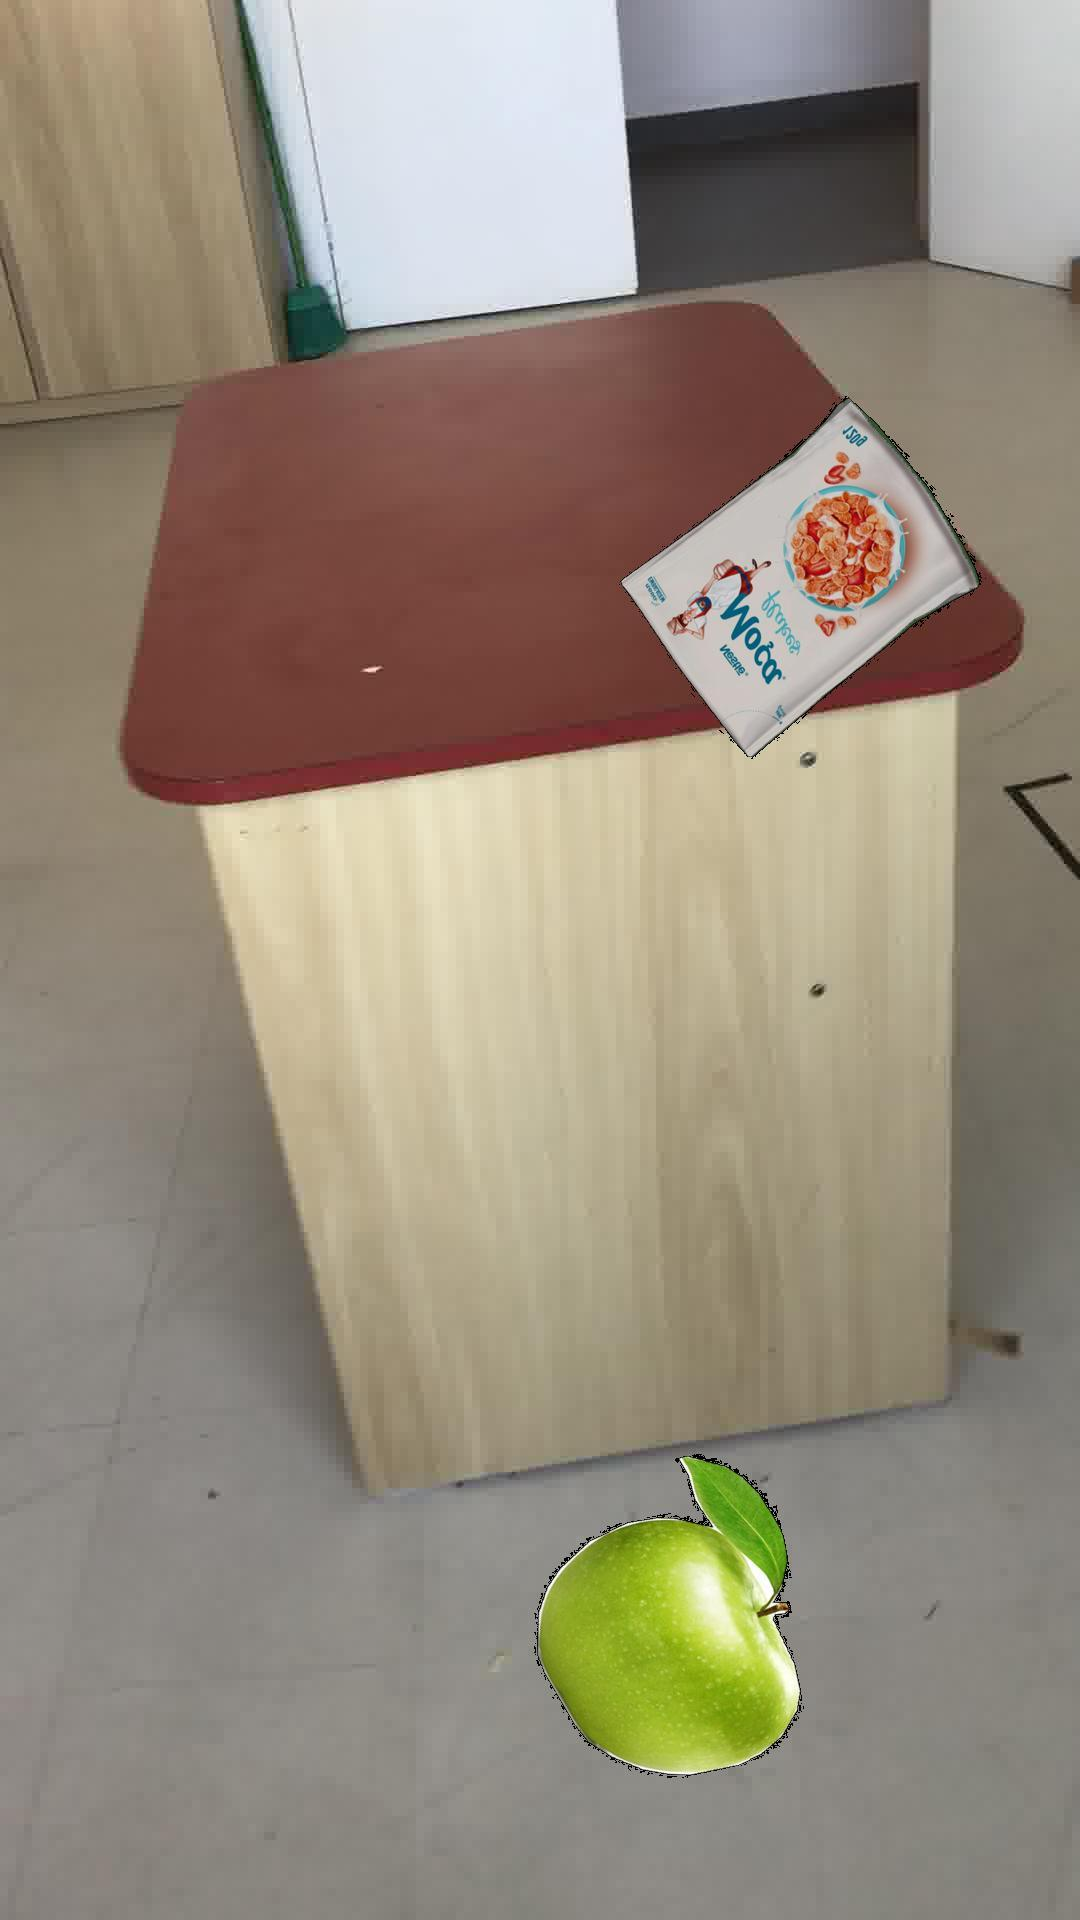corn flakes: (618, 394, 981, 757)
green apple: (533, 1452, 800, 1776)
